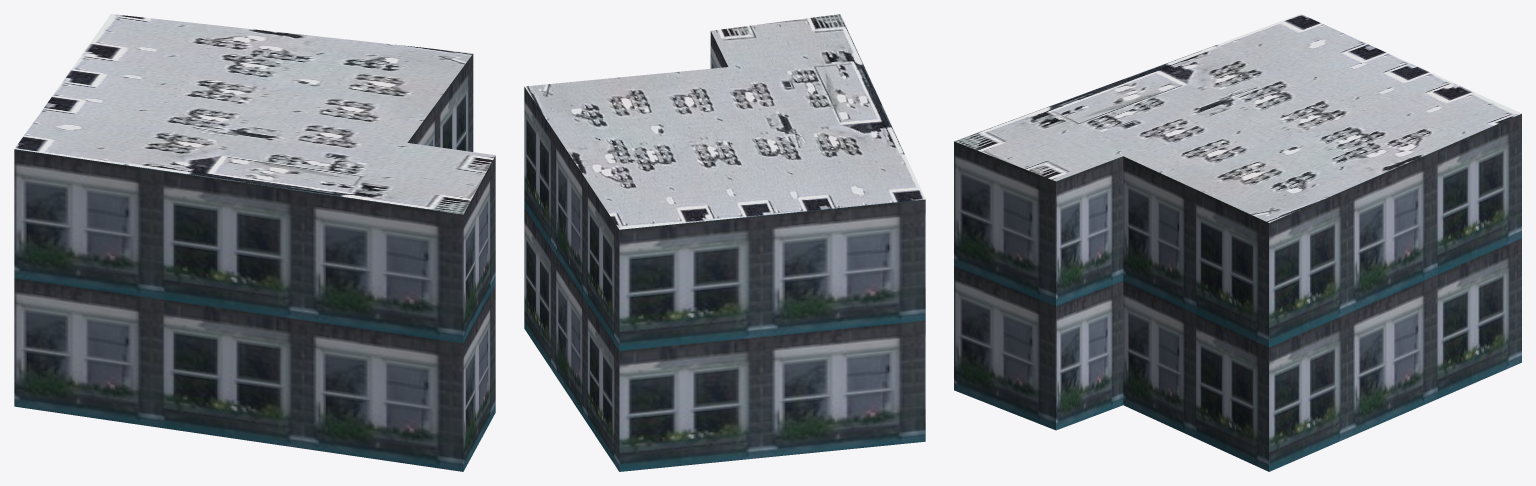
Rendered from ResTex__1272.fbx.
The picture shows the model from 3 angles, left to right: view 1: azimuth 30°, elevation 25°; view 2: azimuth 150°, elevation 25°; view 3: azimuth 270°, elevation 25°; orthographic projection. The views are drawn at different scales.
Visible parts, largest first — view 1: CityEngineMaterial_11_m, CityEngineMaterial_8_m; view 2: CityEngineMaterial_11_m, CityEngineMaterial_8_m; view 3: CityEngineMaterial_11_m, CityEngineMaterial_8_m.
Boxes of the visible parts, bbox=[...] form: CityEngineMaterial_11_m: bbox=[14, 54, 495, 471]; CityEngineMaterial_8_m: bbox=[14, 14, 495, 214]; CityEngineMaterial_11_m: bbox=[524, 31, 925, 471]; CityEngineMaterial_8_m: bbox=[524, 14, 925, 229]; CityEngineMaterial_11_m: bbox=[954, 114, 1521, 471]; CityEngineMaterial_8_m: bbox=[954, 14, 1521, 222].
Bounding box in the file's own units: 10.8 × 6 × 12.4.
Materials: 2 (2 with a texture image).
